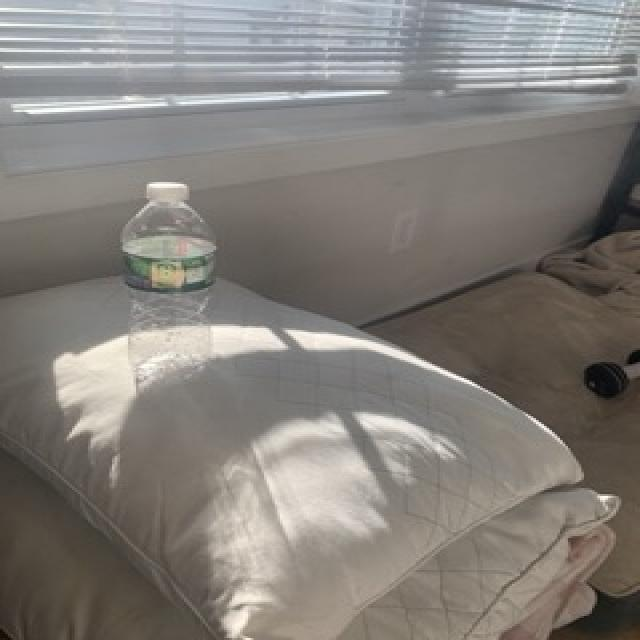water_bottle: (117, 179, 224, 388)
